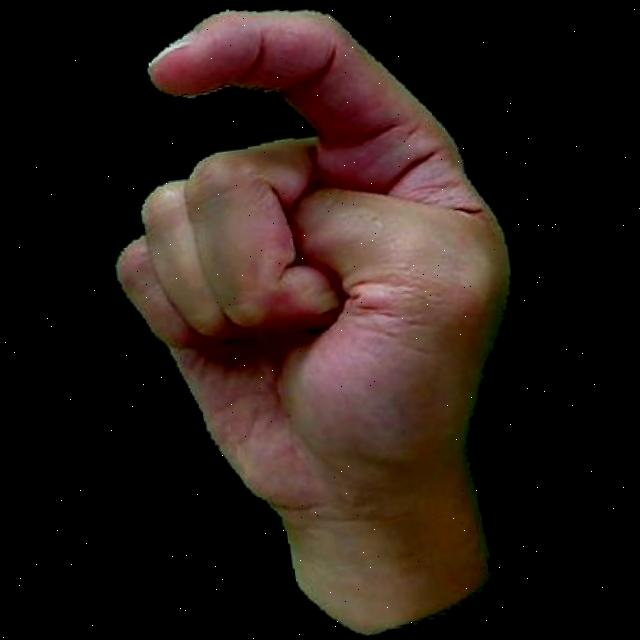x: (67, 0, 573, 640)
